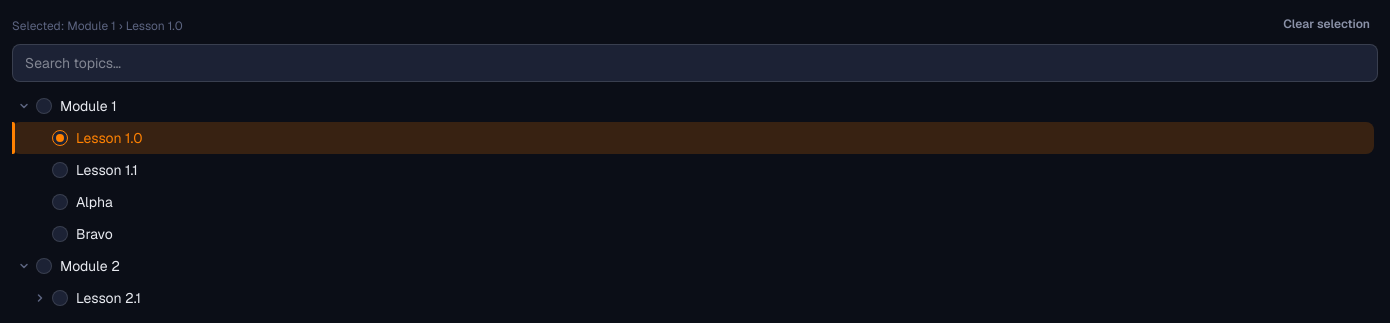
Test: TopicTreePicker › clears the selection
This screenshot has width=1390, height=323.
Click the button "Clear selection". click: (1327,24)
box: x1=1275 y1=12 x2=1378 y2=36
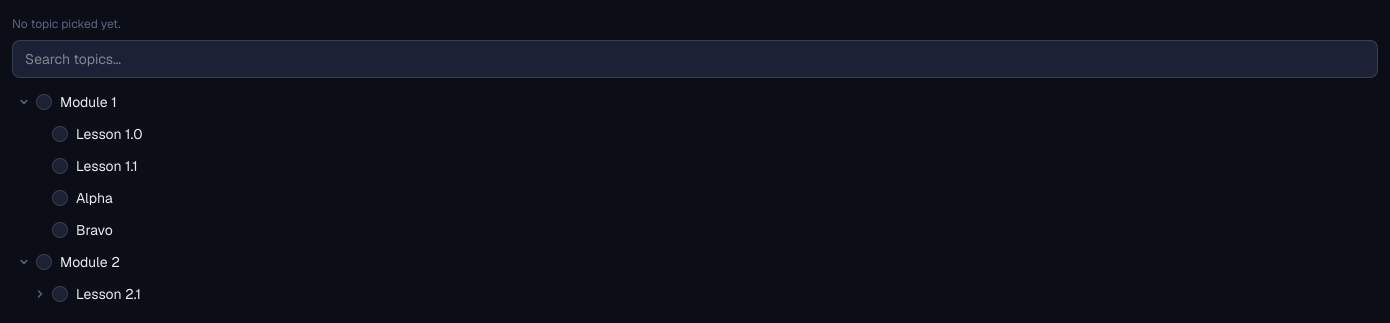
Expected: the text "No topic picked yet." is shown, x1=12 y1=16 x2=121 y2=32
Expected: the button "Clear selection" is gone
